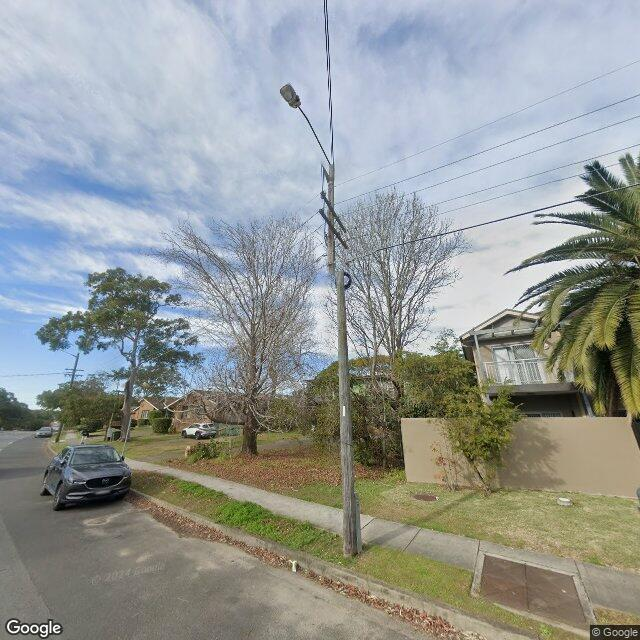crossarm: (319, 209, 348, 250), (320, 191, 347, 233), (64, 368, 84, 372), (64, 374, 84, 377)
streetlight: (279, 82, 331, 182), (49, 348, 77, 359)
timber-pole: (328, 162, 362, 558), (56, 353, 79, 442)
